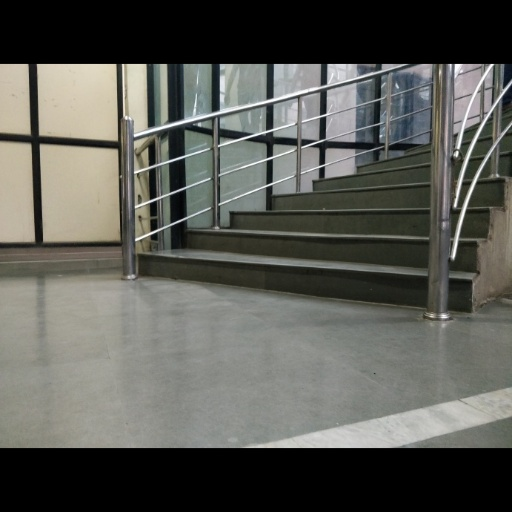Stairs: (140, 146, 430, 307)
